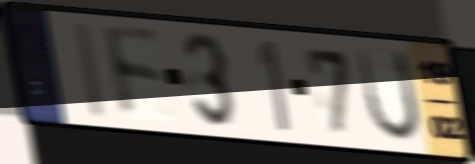1: (254, 38, 292, 134)
3: (179, 30, 240, 131)
7: (302, 46, 354, 135)
F: (99, 22, 168, 122)
I: (71, 18, 110, 122)
U: (354, 44, 423, 145)
